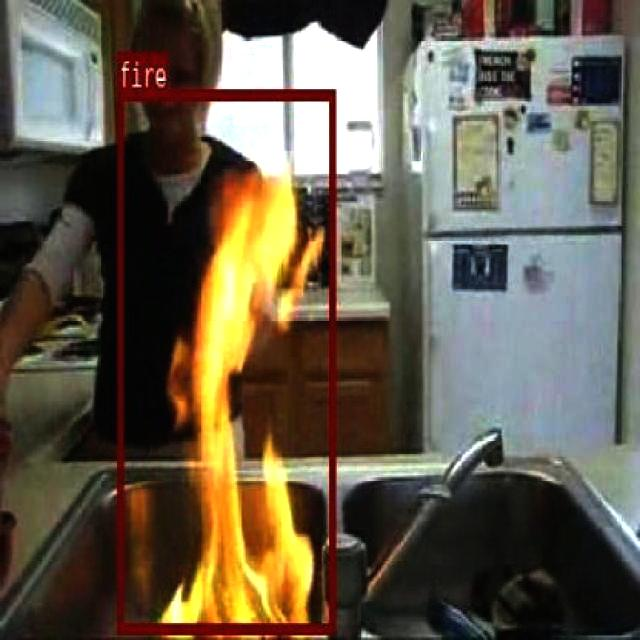fire: (116, 87, 335, 633)
